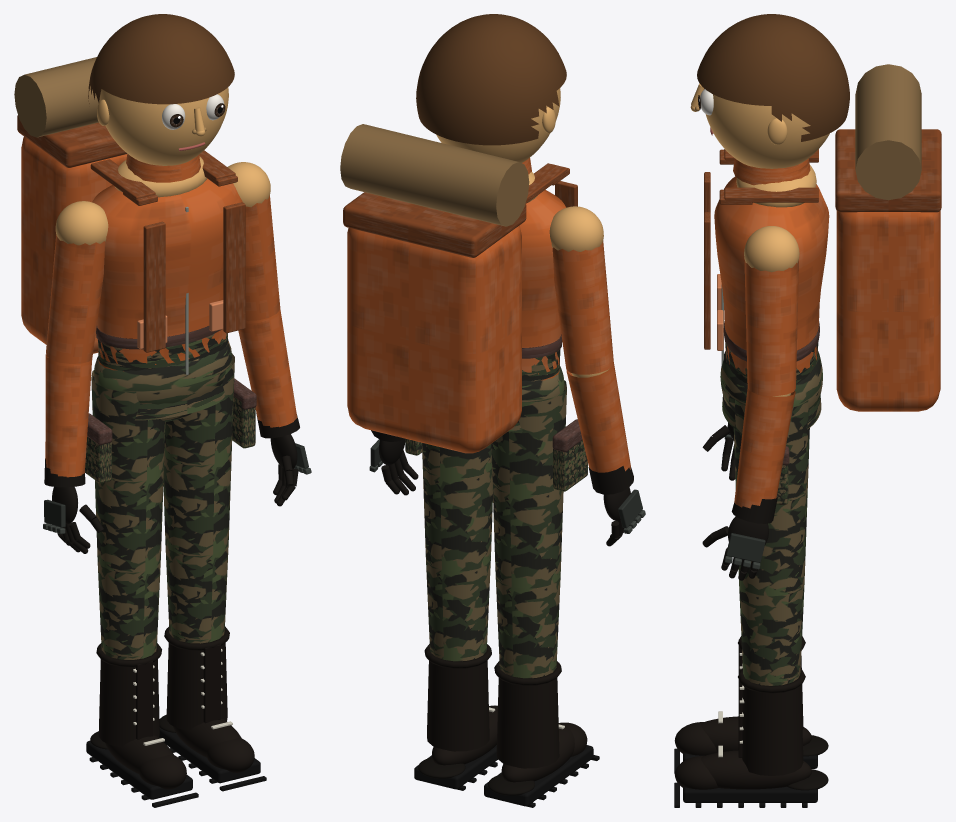
File: 06-sac-avec-couchage.glb
3 views of the same model, side by side, from view 1: azimuth 30°, elevation 25°; view 2: azimuth 150°, elevation 25°; view 3: azimuth 270°, elevation 25° (orthographic). The views are drawn at different scales.
Bounding box in the file's own units: 0.6344 × 1.77 × 0.5649.
27 materials, 5 textured.
